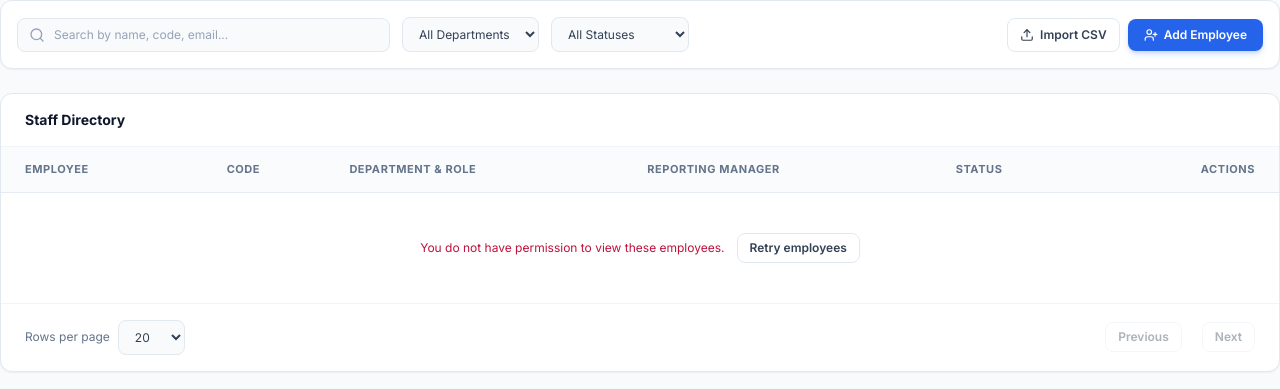
Real read-only Employees directory › shows HTTP 403 directory errors rather than successful empty results and supports retry
This screenshot has width=1280, height=389.
Expected: the message shows "permission", [420,240,725,254]
What coordinates should you click on to do the following:
click the button "Retry employees"
I would click on:
 (798, 248)
Its box is [736,232,860,262].
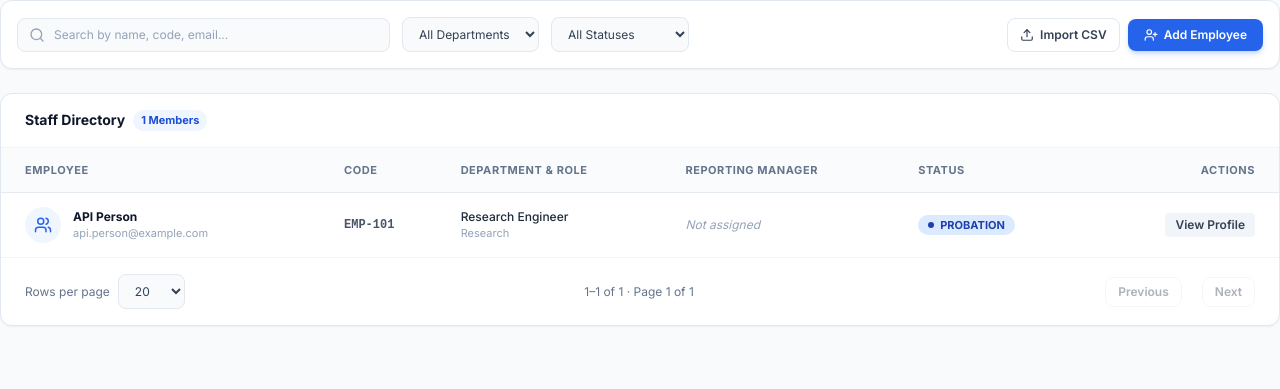
Expected: the text "API Person" is shown, [73,209,137,224]
